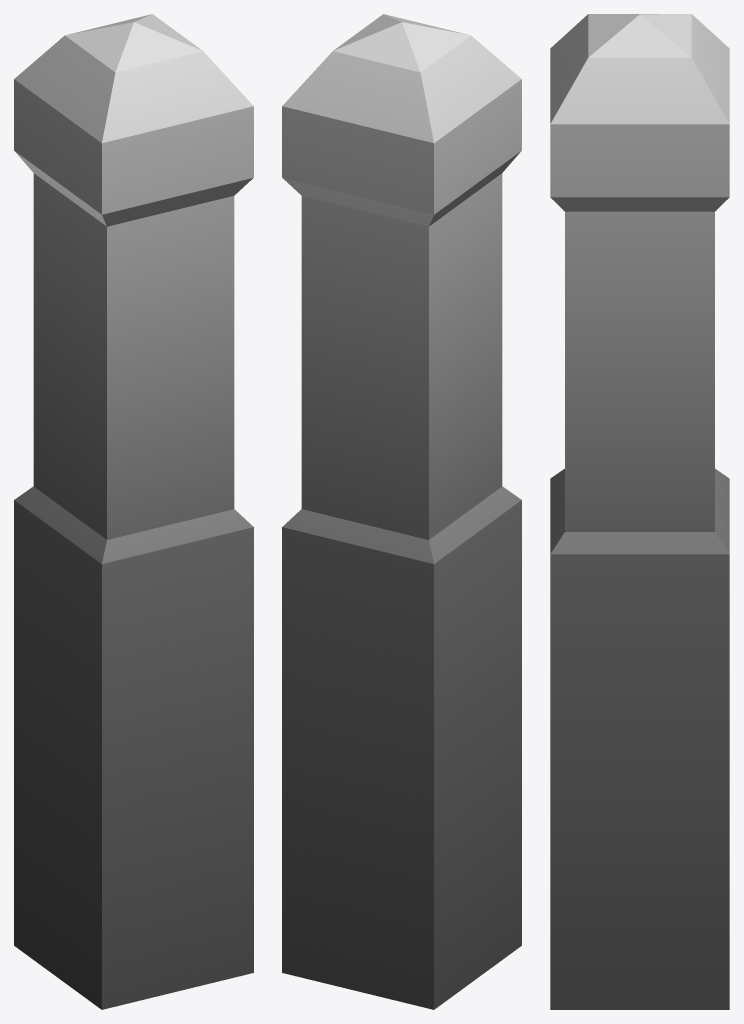
The model's file is FenceStoneEnd.fbx.
3 views of the same model, side by side, from view 1: azimuth 30°, elevation 25°; view 2: azimuth 150°, elevation 25°; view 3: azimuth 270°, elevation 25° (orthographic). The views are drawn at different scales.
Parts seen in each view (by area): view 1: FenceStoneEnd; view 2: FenceStoneEnd; view 3: FenceStoneEnd.
Boxes of the visible parts, x1=… form: FenceStoneEnd: x1=14, y1=14, x2=253, y2=1009; FenceStoneEnd: x1=282, y1=14, x2=521, y2=1009; FenceStoneEnd: x1=550, y1=14, x2=729, y2=1009.
Bounding box in the file's own units: 0.6 × 3.54 × 0.6.
Materials: 1 (1 with a texture image).
